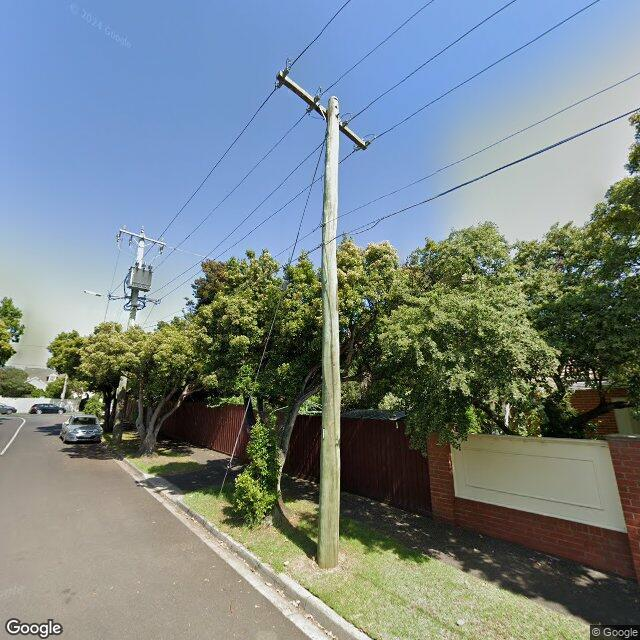crossarm: (277, 70, 367, 149), (120, 230, 167, 246)
streetlight: (82, 290, 108, 298)
timber-pole: (317, 96, 341, 570), (111, 231, 145, 445)
transformer: (126, 262, 153, 292)
